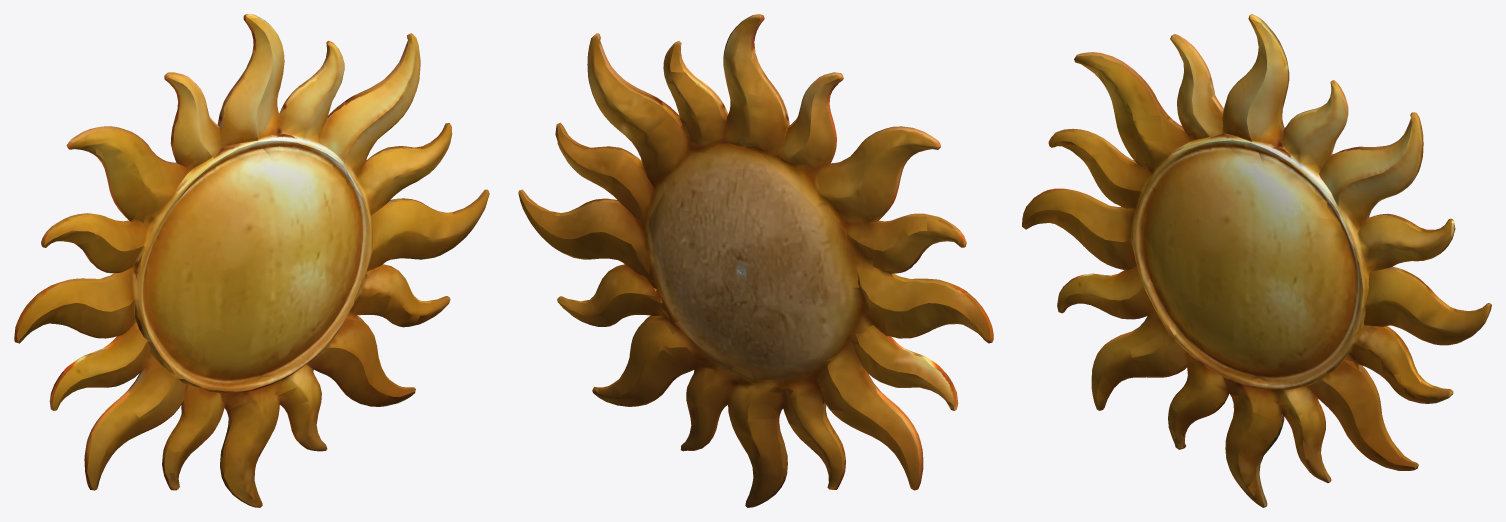
Rendered from sun-gold.glb.
3 views of the same model, side by side, from view 1: azimuth 30°, elevation 25°; view 2: azimuth 150°, elevation 25°; view 3: azimuth 330°, elevation 25° (orthographic).
Parts seen in each view (by area): view 1: geometry_0; view 2: geometry_0; view 3: geometry_0.
Boxes of the visible parts, x1,y1,x2,y2 form: geometry_0: (14,14,489,507); geometry_0: (518,14,993,507); geometry_0: (1022,14,1491,507).
Bounding box in the file's own units: 0.15 × 0.1501 × 0.017.
Materials: 1 (1 with a texture image).
